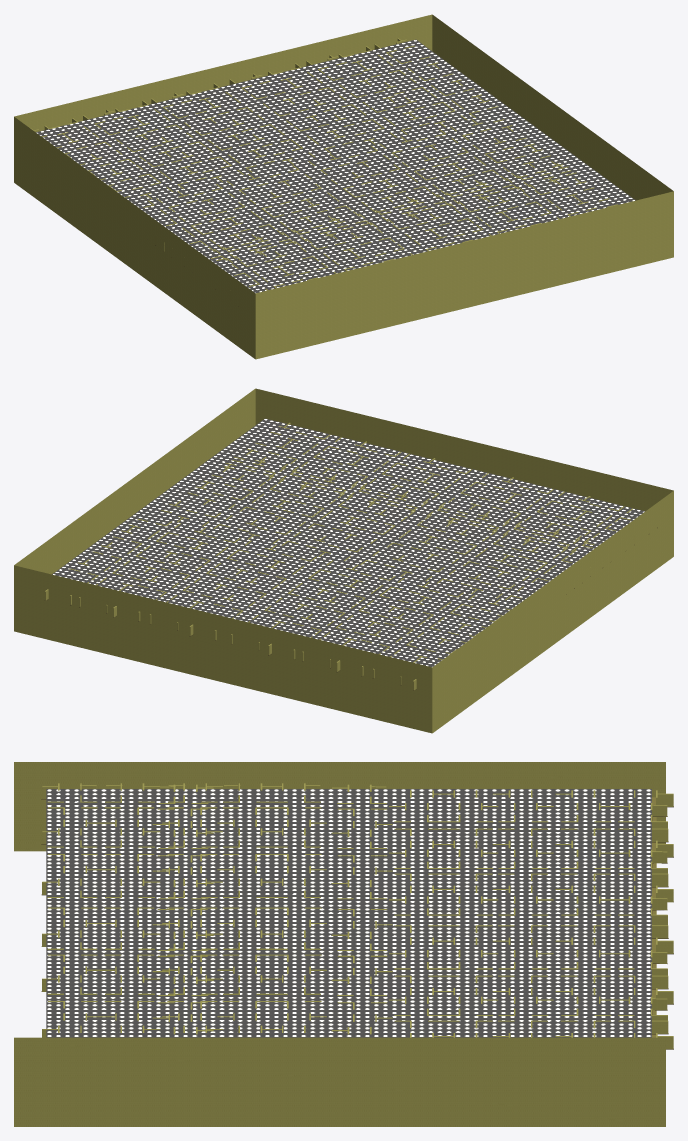
File: backrooms_level_0.glb
The picture shows the model from 3 angles, top to bottom: view 1: azimuth 30°, elevation 25°; view 2: azimuth 150°, elevation 25°; view 3: azimuth 270°, elevation 25°; orthographic projection. The views are drawn at different scales.
Visible parts, largest first — view 1: Plane.002_1, Cube_9, Cube.007_10, Cube.009_12, Cube.004_6, Cube.002_4, Cube.008_11, Cube.005_7, Cube.003_5, Cube.006_8, Cube.011_13, Cube.012_14 (+2 smaller); view 2: Plane.002_1, Cube_9, Cube.009_12, Cube.001_3, Cube.002_4, Cube.004_6, Cube.008_11, Cube.011_13, Cube.005_7, Cube.003_5, Cube.006_8, Cube.010_2 (+2 smaller); view 3: Plane.002_1, Cube_9, Cube.007_10, Cube.001_3, Cube.005_7, Cube.002_4, Cube.003_5, Cube.008_11, Cube.011_13, Cube.004_6, Cube.010_2, Cube.009_12 (+2 smaller).
Part boxes in pixels (left/top/right/bottom): Plane.002_1: left=36, top=39, right=635, bottom=293; Cube_9: left=14, top=14, right=673, bottom=359; Cube.007_10: left=30, top=38, right=414, bottom=137; Cube.009_12: left=80, top=73, right=462, bottom=175; Cube.004_6: left=184, top=161, right=571, bottom=272; Cube.002_4: left=207, top=178, right=594, bottom=289; Cube.008_11: left=56, top=56, right=439, bottom=158; Cube.005_7: left=163, top=146, right=550, bottom=257; Cube.003_5: left=213, top=163, right=576, bottom=262; Cube.006_8: left=147, top=137, right=535, bottom=245; Cube.011_13: left=100, top=88, right=482, bottom=189; Cube.012_14: left=115, top=98, right=497, bottom=198; Plane.002_1: left=52, top=418, right=644, bottom=667; Cube_9: left=14, top=388, right=673, bottom=733; Cube.009_12: left=92, top=542, right=479, bottom=644; Cube.001_3: left=270, top=422, right=657, bottom=533; Cube.002_4: left=246, top=443, right=634, bottom=550; Cube.004_6: left=223, top=460, right=611, bottom=567; Cube.008_11: left=69, top=559, right=456, bottom=660; Cube.011_13: left=113, top=527, right=500, bottom=629; Cube.005_7: left=202, top=474, right=590, bottom=582; Cube.003_5: left=224, top=456, right=594, bottom=551; Cube.006_8: left=187, top=484, right=574, bottom=594; Cube.010_2: left=161, top=501, right=523, bottom=600; Plane.002_1: left=46, top=789, right=651, bottom=1037; Cube_9: left=14, top=762, right=665, bottom=1126; Cube.007_10: left=613, top=790, right=673, bottom=1049; Cube.001_3: left=41, top=783, right=102, bottom=1037; Cube.005_7: left=217, top=783, right=277, bottom=1032; Cube.002_4: left=99, top=783, right=160, bottom=1032; Cube.003_5: left=152, top=784, right=213, bottom=1034; Cube.008_11: left=555, top=790, right=615, bottom=1037; Cube.011_13: left=437, top=790, right=498, bottom=1037; Cube.004_6: left=162, top=783, right=222, bottom=1032; Cube.010_2: left=331, top=784, right=392, bottom=1034; Cube.009_12: left=492, top=790, right=553, bottom=1037.
Bounding box in the file's own units: 406 × 61.36 × 411.
4 materials, 3 textured.
